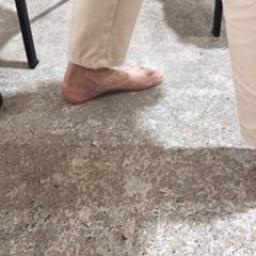Medial View -Left Foot-: (54, 46, 170, 113)
